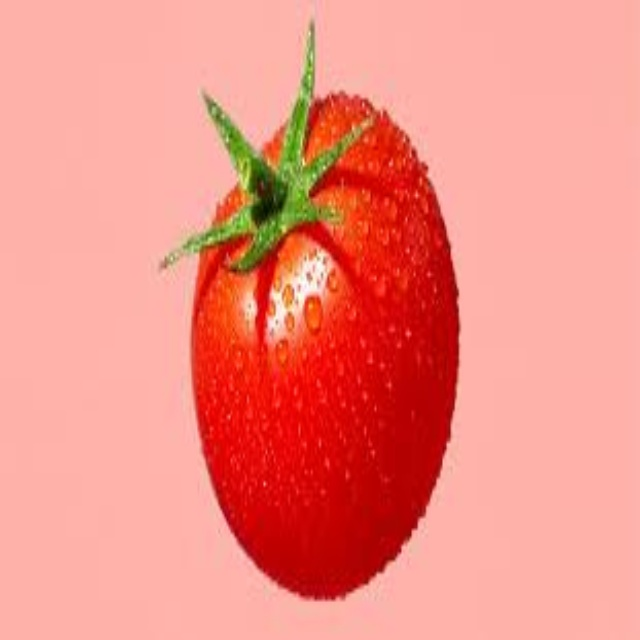tomato: (180, 28, 469, 612)
